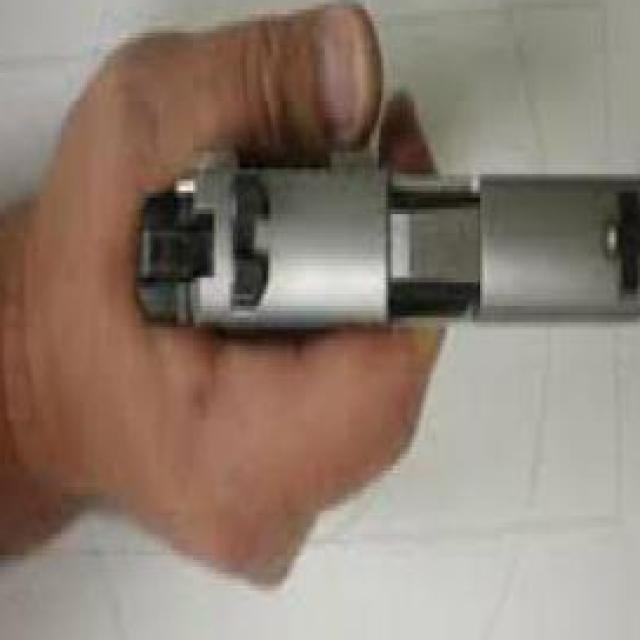pistol: (127, 134, 640, 395)
